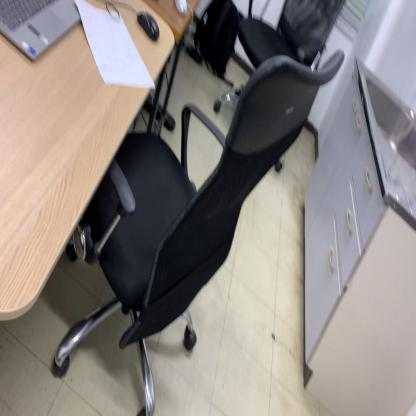chair: (48, 45, 347, 416), (213, 0, 350, 175)
